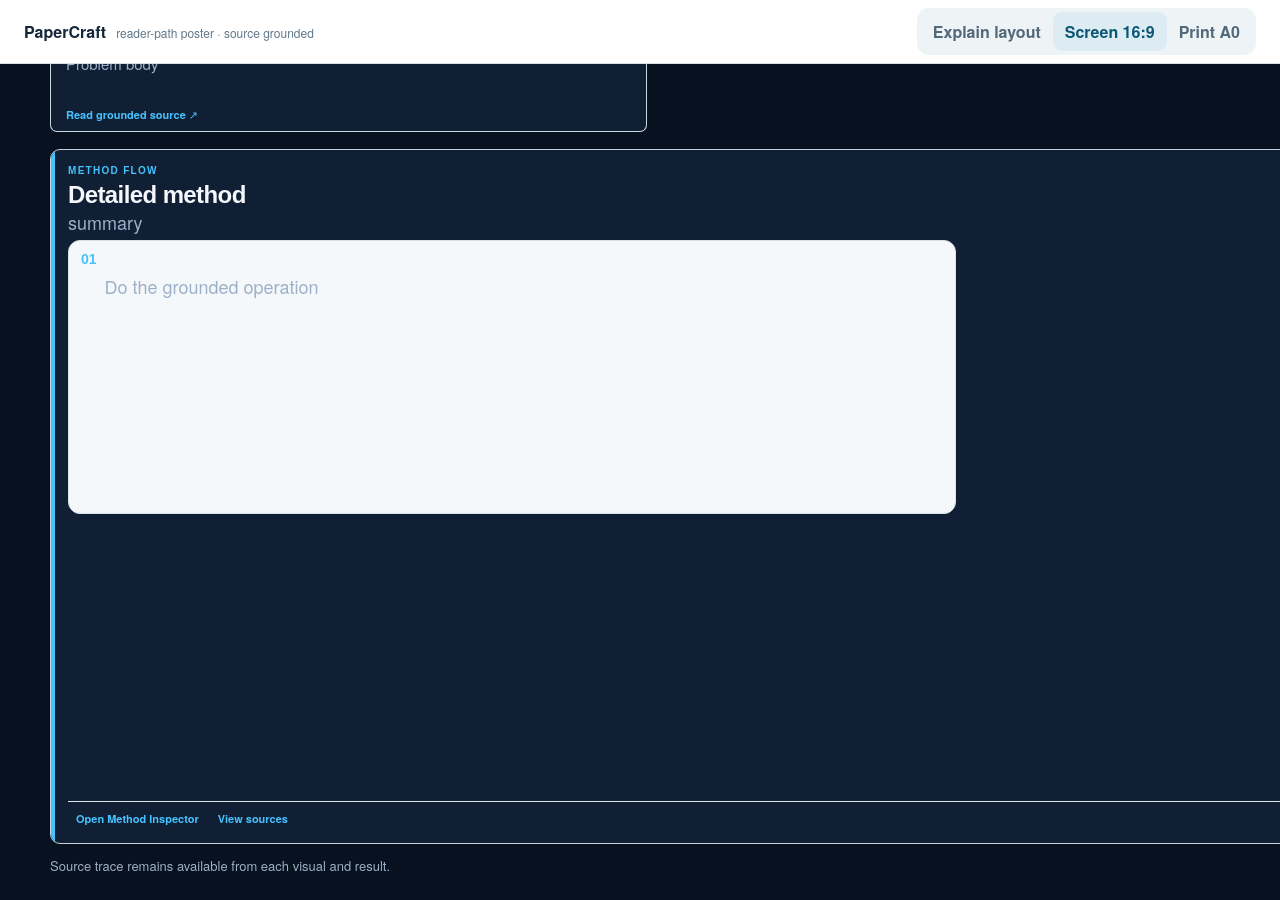
Test: Poster › opens a large grounded method inspector
(page scrolled)
Click the button "Open Method Inspector". click: (137, 818)
box: [68,806,207,831]
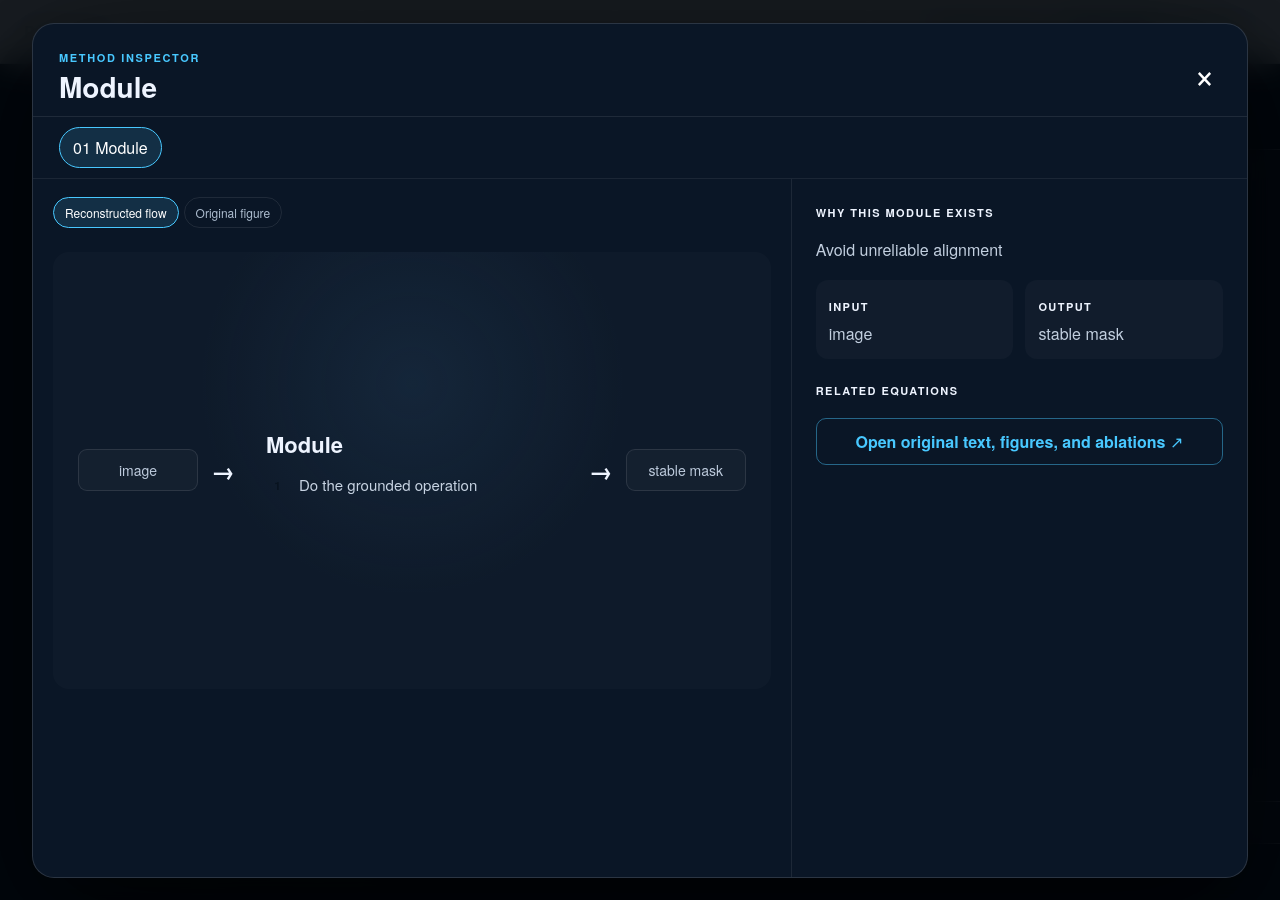
Check: the dialog is shown
Check: the text "Avoid unreliable alignment" is shown, box [816,238,1003,261]
Check: the 2nd text "stable mask" is shown, box [626,449,746,491]
